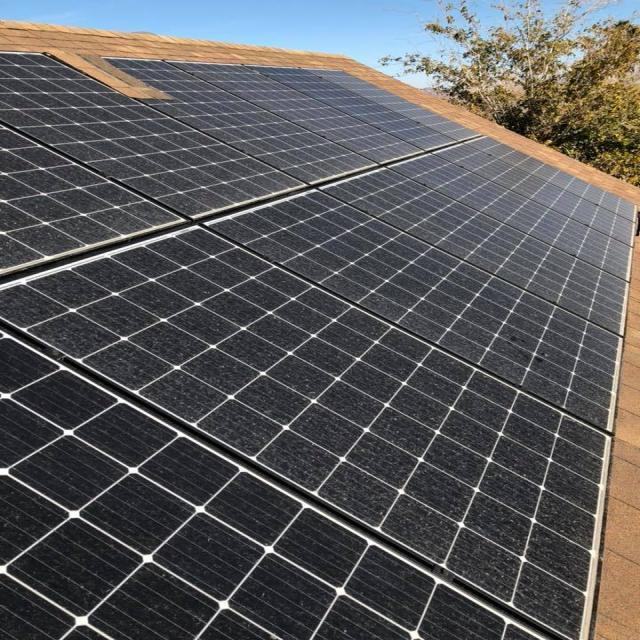dust-solar-panel: (0, 49, 640, 640)
